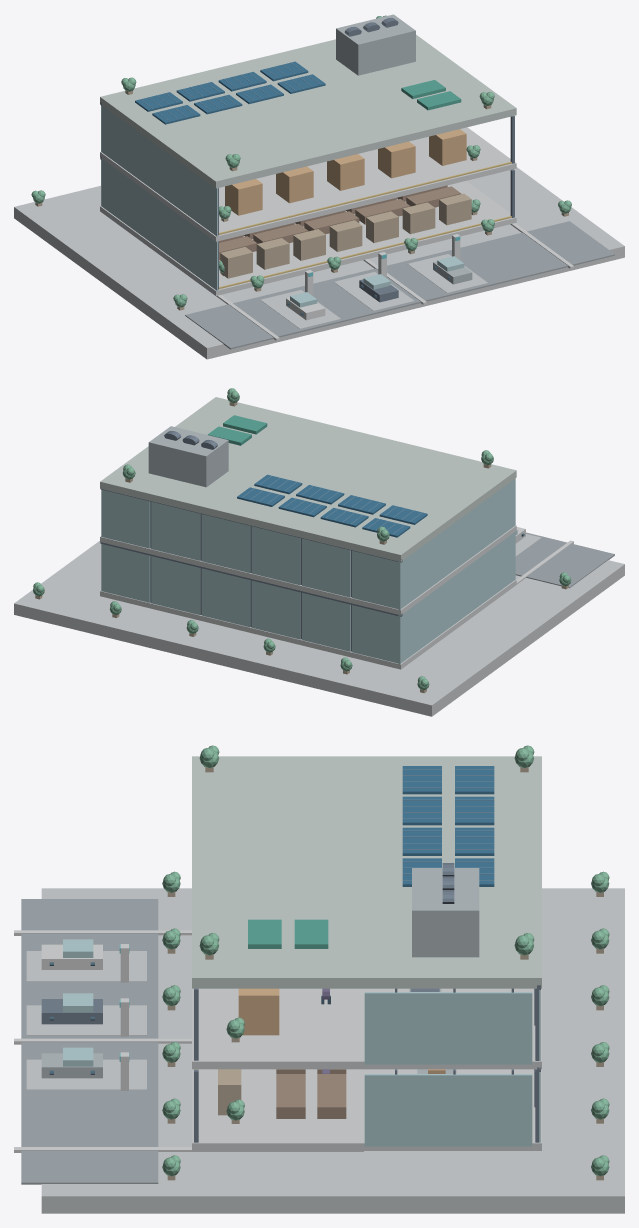
Rendered from smart_manufacturing.glb.
3 views of the same model, one above another, from view 1: azimuth 30°, elevation 25°; view 2: azimuth 150°, elevation 25°; view 3: azimuth 270°, elevation 25° (orthographic). The views are drawn at different scales.
Visible parts, largest first — view 1: GreenRoof_0246, SitePlinth_0001, EVParking_0002, FloorSlab_2_0162, FloorSlab_1_0081, WestFacade_0092, WestFacade_0173, PlantRoom_0303, MaintenanceBench_0219, MaintenanceBench_0218, MaintenanceBench_0220, MaintenanceBench_0221 (+27 smaller); view 2: GreenRoof_0246, SitePlinth_0001, WestFacade_0092, WestFacade_0173, PlantRoom_0303, EVParking_0002, FloorSlab_1_0081, FloorSlab_2_0162, RearGlass_0096, RearGlass_0097, RearGlass_0176, RearGlass_0095 (+19 smaller); view 3: GreenRoof_0246, SitePlinth_0001, EVParking_0002, FloorSlab_2_0162, SideGlass_0106, SideGlass_0187, FloorSlab_1_0081, PlantRoom_0303, ParkingBay_0003, ParkingBay_0012, ParkingBay_0021, MaintenanceBench_0221 (+18 smaller).
Boxes of the visible parts, x1,y1,x2,y2 form: GreenRoof_0246: [100, 34, 516, 188]; SitePlinth_0001: [14, 167, 624, 359]; EVParking_0002: [185, 221, 614, 349]; FloorSlab_2_0162: [100, 127, 516, 241]; FloorSlab_1_0081: [100, 181, 516, 295]; WestFacade_0092: [101, 159, 217, 292]; WestFacade_0173: [101, 105, 217, 236]; PlantRoom_0303: [336, 14, 415, 75]; MaintenanceBench_0219: [327, 154, 364, 190]; MaintenanceBench_0218: [276, 166, 313, 203]; MaintenanceBench_0220: [378, 141, 415, 178]; MaintenanceBench_0221: [429, 129, 466, 165]; GreenRoof_0246: [100, 397, 516, 561]; SitePlinth_0001: [14, 541, 624, 716]; WestFacade_0092: [398, 531, 515, 664]; WestFacade_0173: [398, 478, 515, 610]; PlantRoom_0303: [148, 426, 228, 487]; EVParking_0002: [515, 532, 614, 588]; FloorSlab_1_0081: [100, 579, 516, 669]; FloorSlab_2_0162: [100, 525, 516, 615]; RearGlass_0096: [201, 568, 250, 627]; RearGlass_0097: [151, 556, 200, 614]; RearGlass_0176: [251, 526, 300, 585]; RearGlass_0095: [251, 580, 300, 639]; GreenRoof_0246: [192, 756, 541, 988]; SitePlinth_0001: [41, 888, 624, 1213]; EVParking_0002: [21, 899, 158, 1184]; FloorSlab_2_0162: [192, 988, 541, 1069]; SideGlass_0106: [364, 1074, 532, 1146]; SideGlass_0187: [364, 992, 532, 1064]; FloorSlab_1_0081: [192, 1069, 541, 1150]; PlantRoom_0303: [412, 868, 479, 957]; ParkingBay_0003: [26, 951, 146, 981]; ParkingBay_0012: [26, 1005, 146, 1035]; ParkingBay_0021: [26, 1059, 146, 1089]; MaintenanceBench_0221: [238, 988, 279, 1035].
Bounding box in the file's own units: 25 × 9.38 × 20.95.
